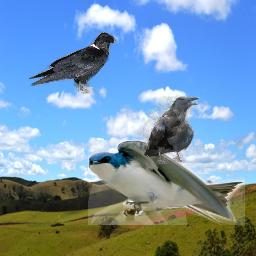Crow: (27, 32, 117, 96), (143, 96, 200, 164)
Swallow: (88, 140, 245, 225)
